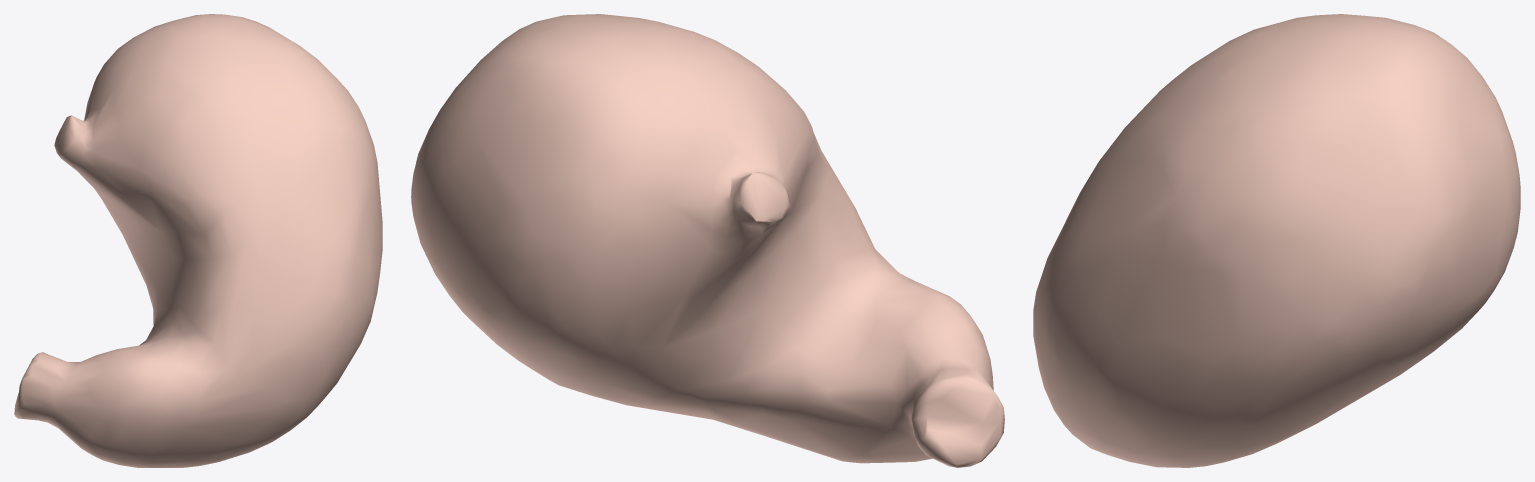
Rendered from stomach.glb.
The picture shows the model from 3 angles, left to right: view 1: azimuth 30°, elevation 25°; view 2: azimuth 150°, elevation 25°; view 3: azimuth 270°, elevation 25°; orthographic projection. The views are drawn at different scales.
Parts seen in each view (by area): view 1: FJ2564_Stomach; view 2: FJ2564_Stomach; view 3: FJ2564_Stomach.
Boxes of the visible parts, box(x1,y1,x2,y2) form: FJ2564_Stomach: box(14, 14, 382, 467); FJ2564_Stomach: box(411, 14, 1004, 467); FJ2564_Stomach: box(1033, 14, 1520, 467).
Size of the model in its own units: 0.1343 by 0.117 by 0.1129.
